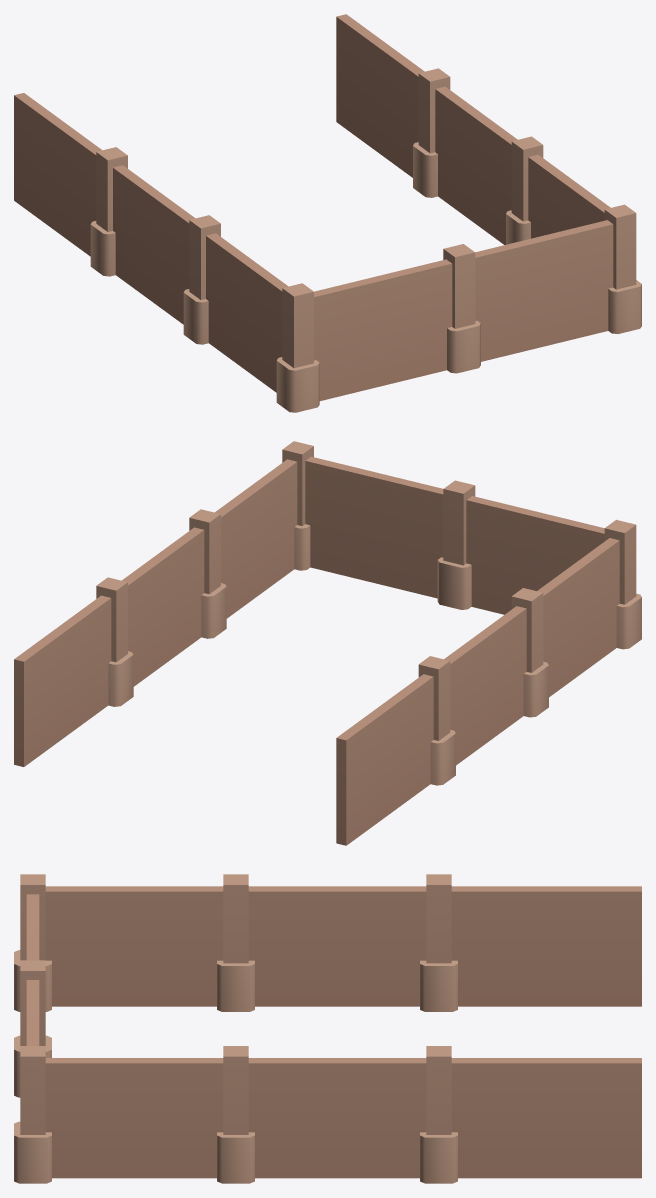
Rendered from fence-3x2.glb.
3 renders of one model, top to bottom at view 1: azimuth 30°, elevation 25°; view 2: azimuth 150°, elevation 25°; view 3: azimuth 270°, elevation 25°, orthographic. The views are drawn at different scales.
Parts seen in each view (by area): view 1: fence-3x2; view 2: fence-3x2; view 3: fence-3x2.
Part boxes in pixels (box(x1,y1,x2,y2)): fence-3x2: box(14, 14, 641, 412); fence-3x2: box(14, 441, 641, 845); fence-3x2: box(14, 874, 641, 1183).
Bounding box in the file's own units: 0.875 × 0.27 × 1.24.
